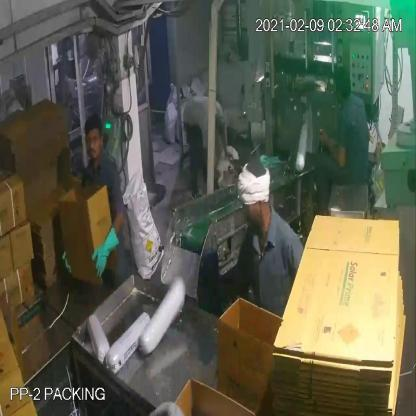glove: (90, 220, 121, 284)
no_glove: (310, 119, 351, 173)
